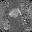people: (9, 8, 22, 18)
